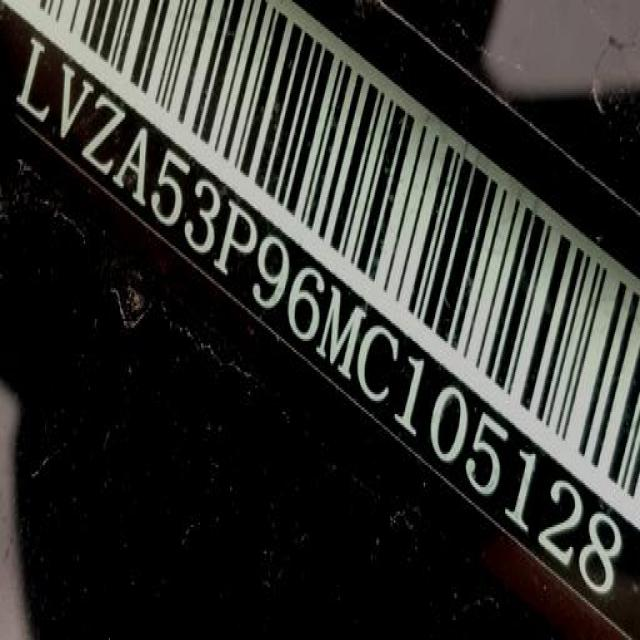0: (426, 379, 477, 474)
1: (392, 348, 438, 444), (508, 446, 548, 536)
2: (540, 478, 588, 571)
3: (184, 176, 229, 261)
5: (466, 413, 514, 504), (150, 148, 193, 232)
6: (288, 263, 332, 346)
8: (576, 513, 629, 599)
9: (252, 230, 298, 314)
A: (117, 117, 163, 206)
C: (354, 315, 400, 404)
L: (16, 35, 65, 131)
M: (318, 278, 369, 376)
P: (213, 195, 256, 281)
V: (60, 62, 92, 145)
Z: (84, 96, 130, 173)
